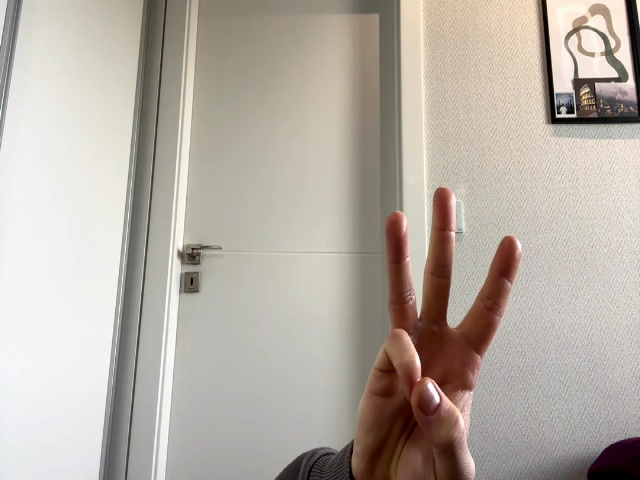W: (353, 187, 522, 480)
